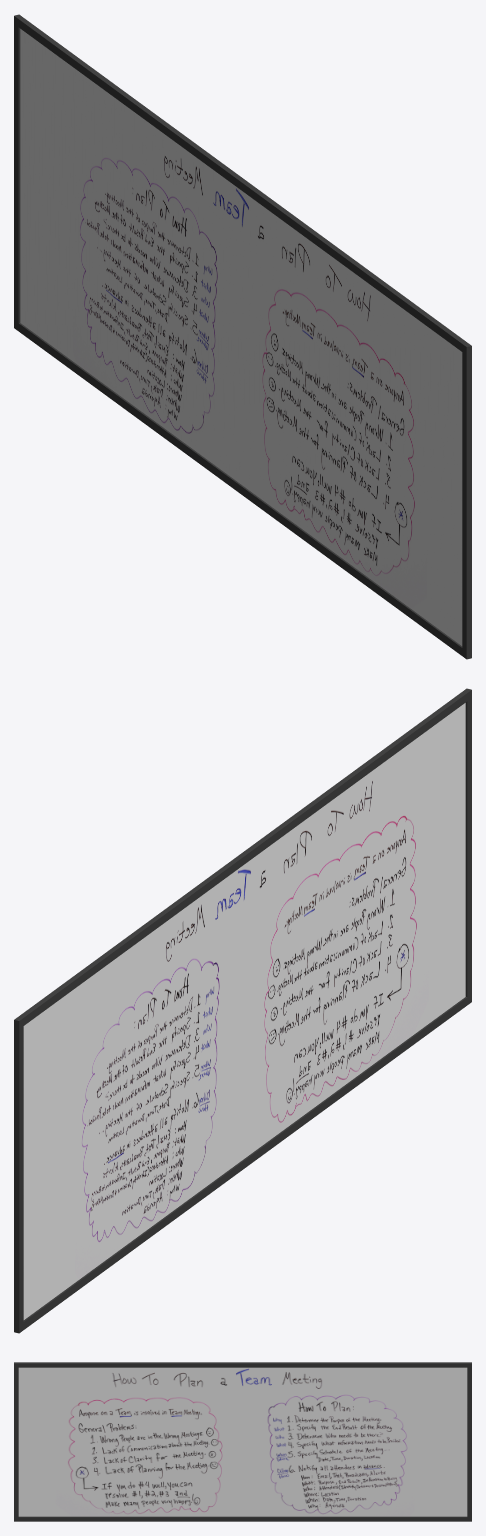
Rendered from Board.FBX.
3 views of the same model, one above another, from view 1: azimuth 30°, elevation 25°; view 2: azimuth 150°, elevation 25°; view 3: azimuth 270°, elevation 25° (orthographic). The views are drawn at different scales.
Visible parts, largest first — view 1: Board; view 2: Board; view 3: Board.
Boxes of the visible parts, box(x1,y1,x2,y2) form: Board: box(14, 14, 471, 659); Board: box(14, 688, 471, 1333); Board: box(14, 1362, 471, 1521).
Size of the model in its own units: 0.7874 by 44.93 by 118.
Materials: 1 (1 with a texture image).
